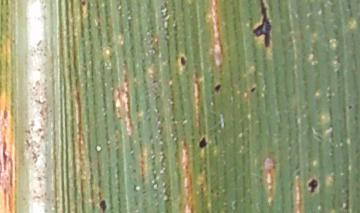tarspot: (251, 1, 276, 49), (307, 177, 319, 194), (197, 135, 209, 149), (98, 198, 108, 213), (212, 82, 223, 94), (178, 55, 188, 67), (249, 86, 256, 94), (78, 1, 87, 6), (347, 104, 353, 110)
